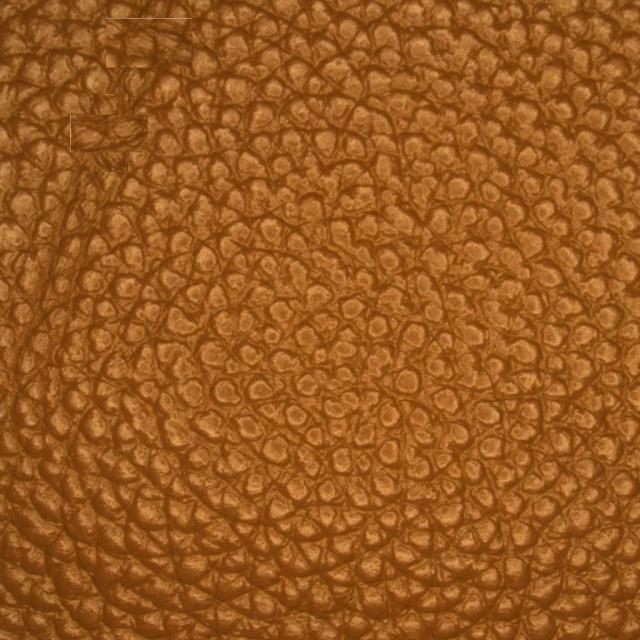Healed Injury: (54, 38, 175, 256)
